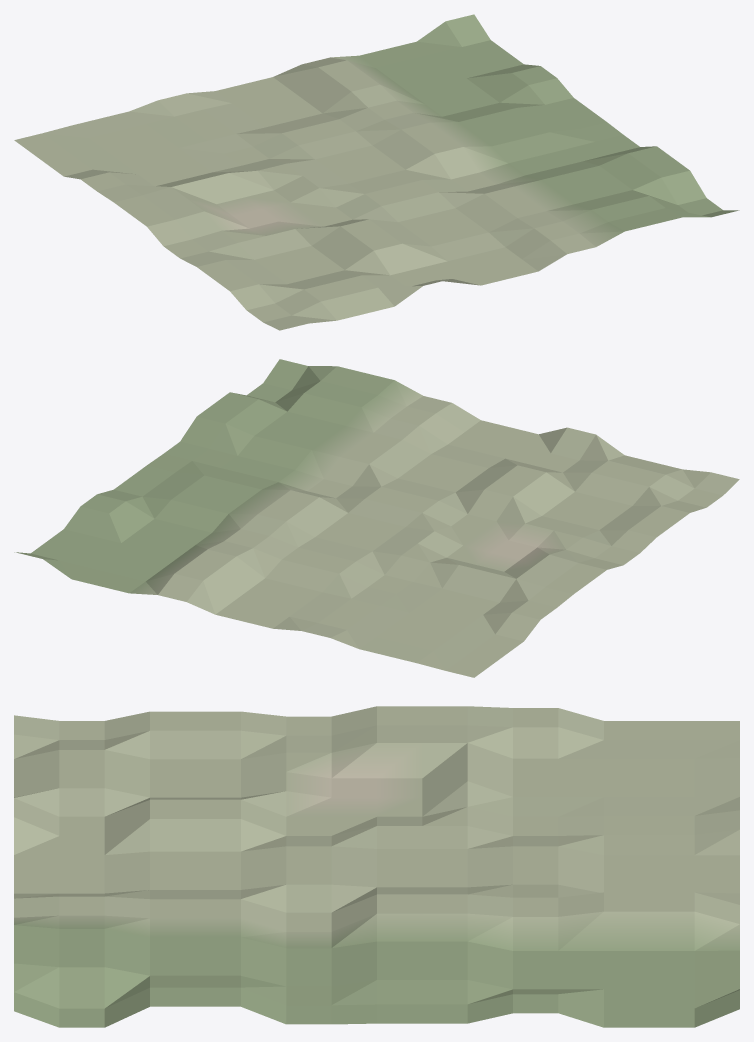
The picture shows the model from 3 angles, top to bottom: view 1: azimuth 30°, elevation 25°; view 2: azimuth 150°, elevation 25°; view 3: azimuth 270°, elevation 25°; orthographic projection. The views are drawn at different scales.
Size of the model in its own units: 32 by 1.26 by 32.
